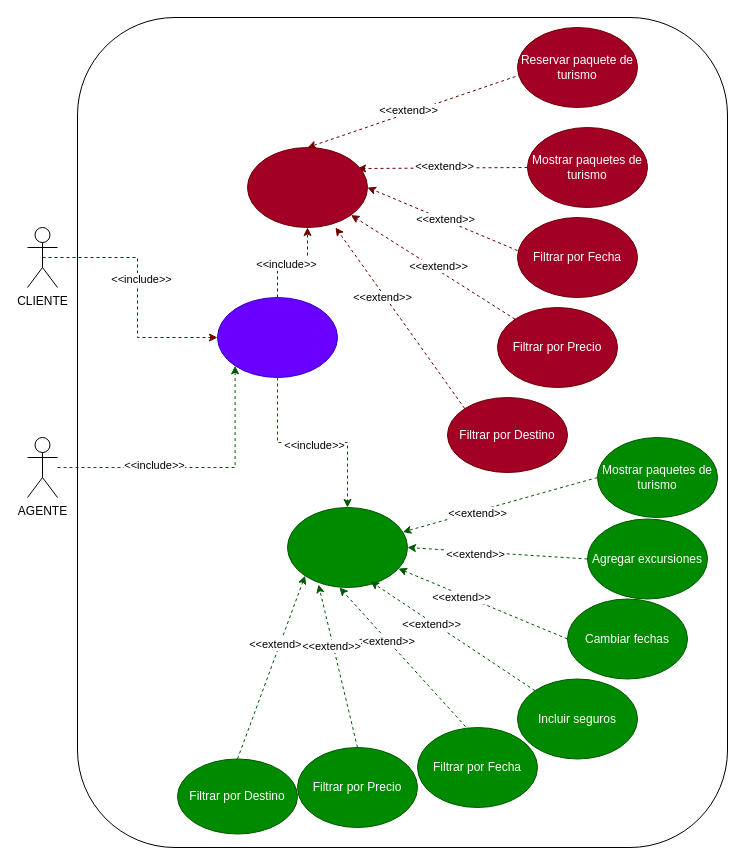
Some shapes in this 745 by 865 pixel diagram are drawn without their labels. Here are the shapes that lost their labels. From the top down, the centre of each, then its label:
pixel 307 187: Pagina cliente
pixel 277 337: Iniciar sesion
pixel 347 547: Pagina Agente de viaje
